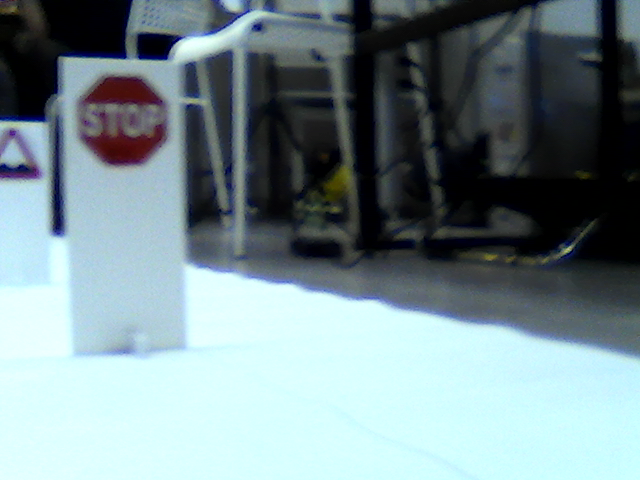Stop: (75, 71, 168, 171)
